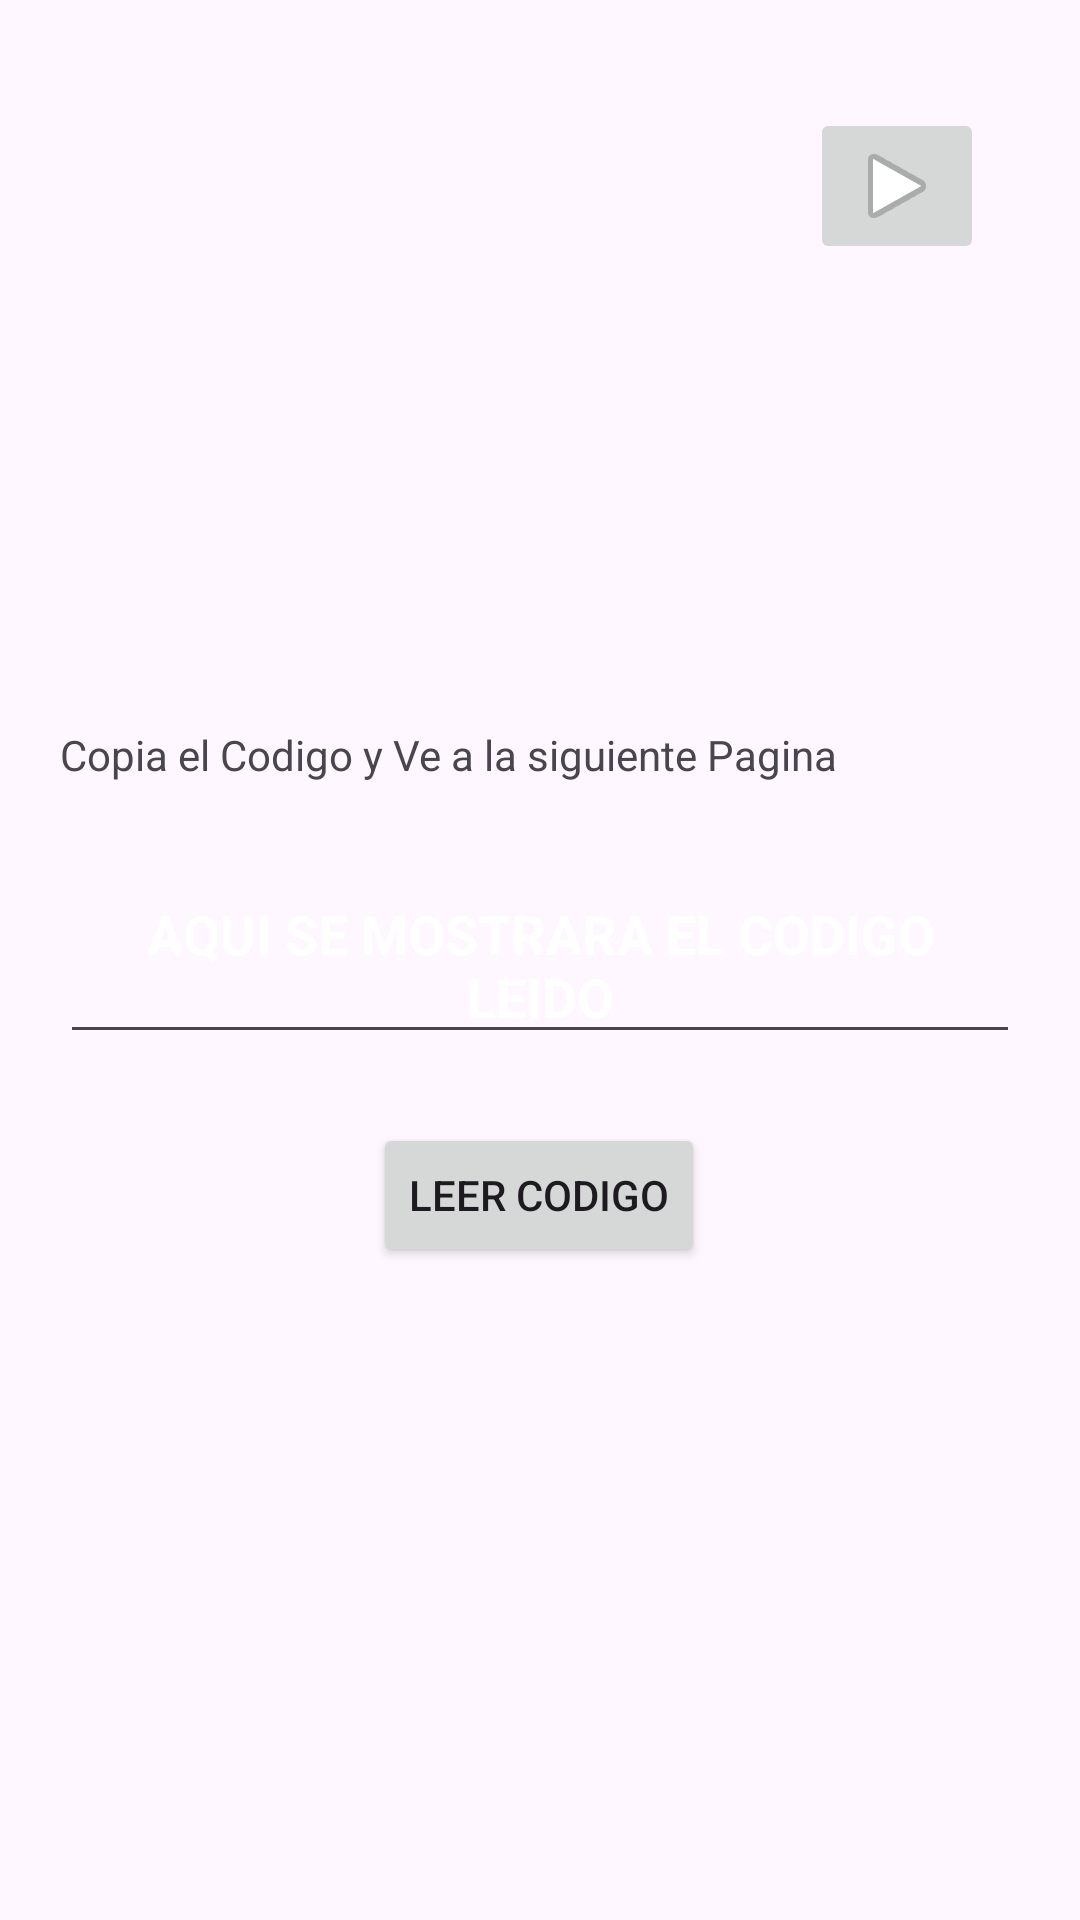

Named icons in this screenshot (1080×1920) and their centers, (x,y):
play: (897,186)
